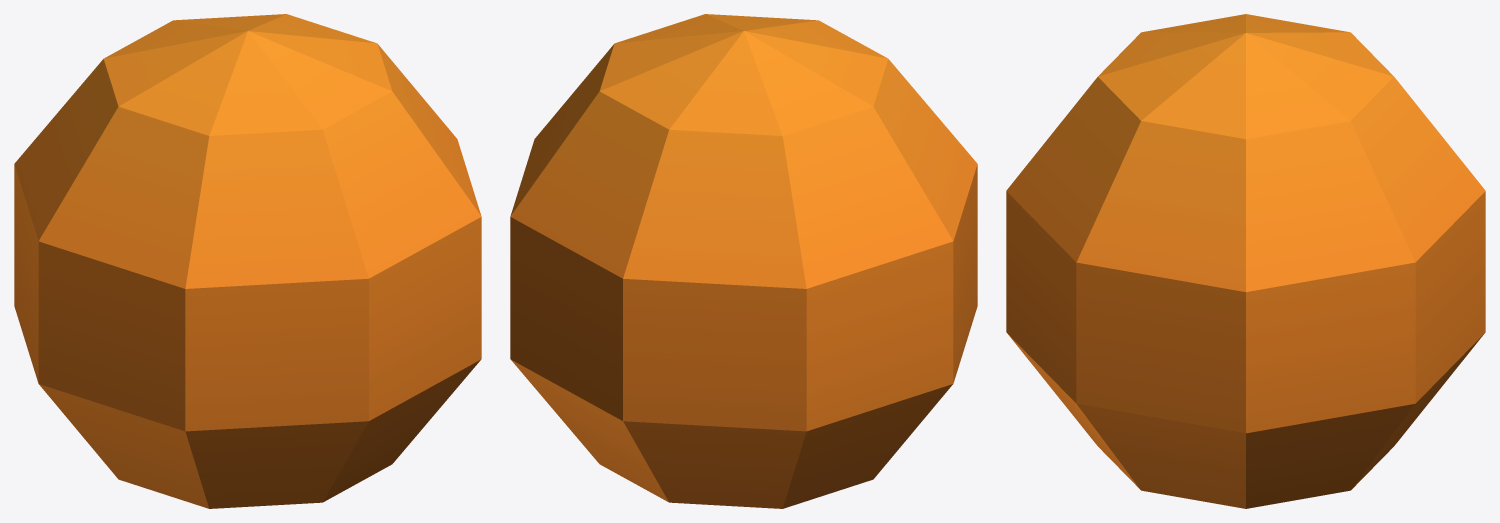
The model's file is fireball.glb.
The picture shows the model from 3 angles, left to right: view 1: azimuth 30°, elevation 25°; view 2: azimuth 150°, elevation 25°; view 3: azimuth 270°, elevation 25°; orthographic projection.
Visible parts, largest first — view 1: fireball; view 2: fireball; view 3: fireball.
Boxes of the visible parts, x1=… form: fireball: x1=14, y1=14, x2=481, y2=508; fireball: x1=510, y1=14, x2=977, y2=508; fireball: x1=1006, y1=14, x2=1485, y2=508.
Bounding box in the file's own units: 0.3424 × 0.36 × 0.3424.
1 material, 1 textured.
